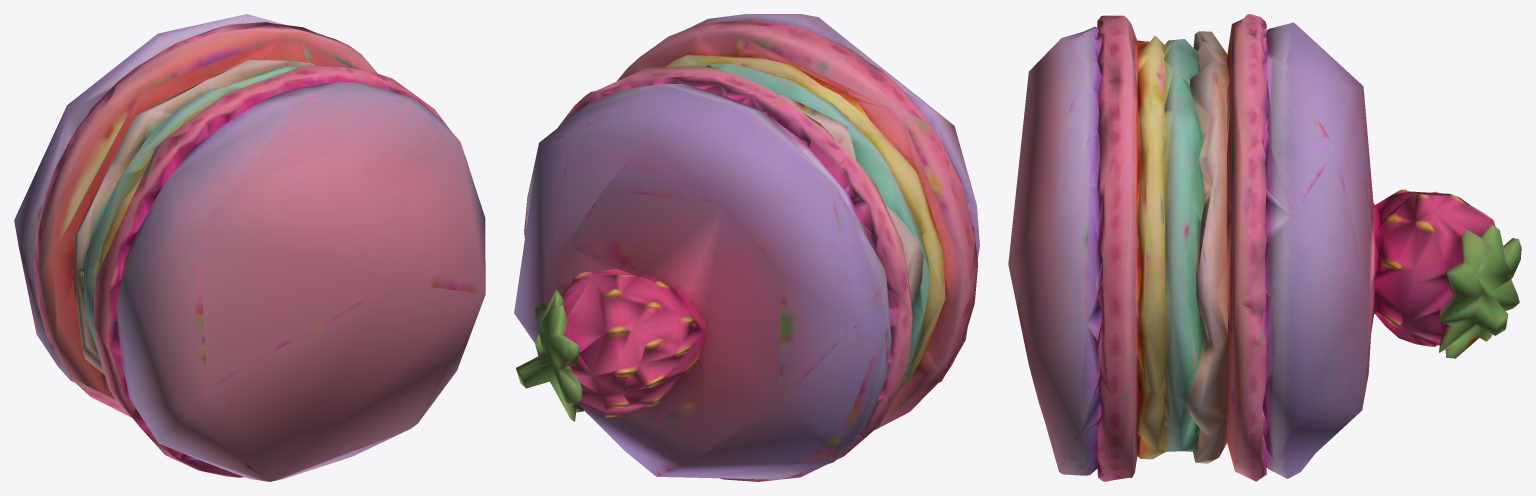
3 views of the same model, side by side, from view 1: azimuth 30°, elevation 25°; view 2: azimuth 150°, elevation 25°; view 3: azimuth 270°, elevation 25° (orthographic). The views are drawn at different scales.
Parts seen in each view (by area): view 1: material; view 2: material; view 3: material.
Boxes of the visible parts, x1,y1,x2,y2 form: material: [14, 14, 485, 481]; material: [514, 14, 979, 481]; material: [1008, 14, 1521, 481].
Bounding box in the file's own units: 0.9064 × 0.91 × 1.
Materials: 1 (1 with a texture image).
